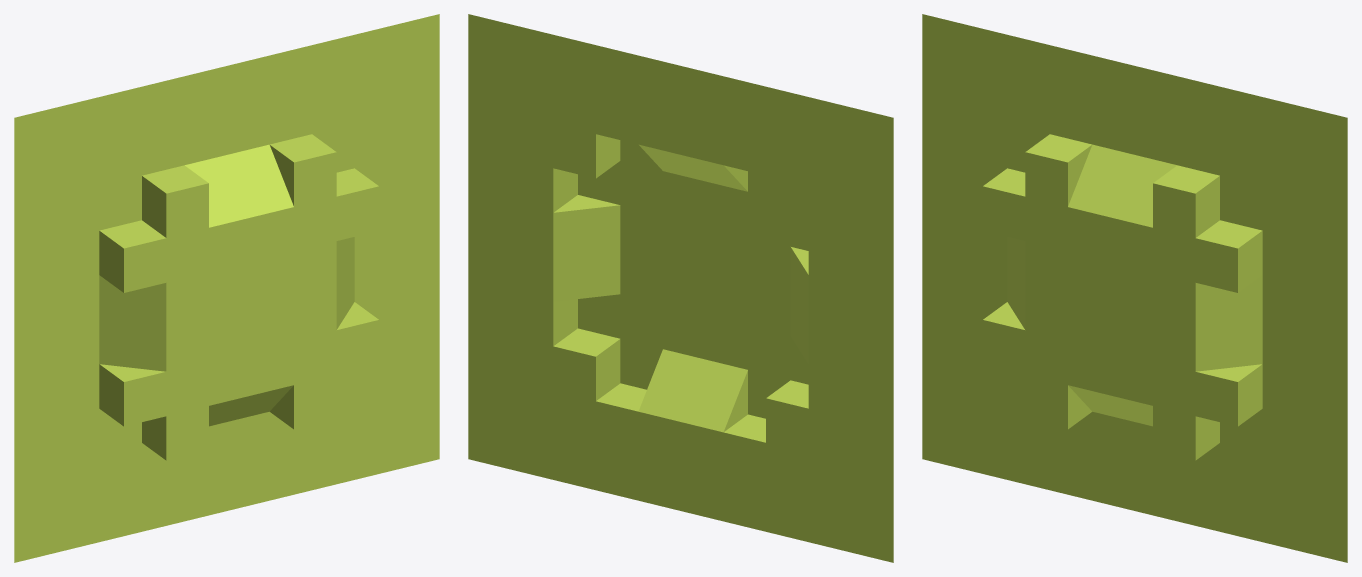
File: ramp.obj
3 renders of one model, left to right at view 1: azimuth 30°, elevation 25°; view 2: azimuth 150°, elevation 25°; view 3: azimuth 330°, elevation 25°, orthographic.
Parts seen in each view (by area): view 1: Line001; view 2: Line001; view 3: Line001.
Boxes of the visible parts, box(x1,y1,x2,y2) form: Line001: box(14, 14, 439, 562); Line001: box(468, 14, 893, 562); Line001: box(922, 14, 1347, 562).
Bounding box in the file's own units: 100 × 100 × 10.
